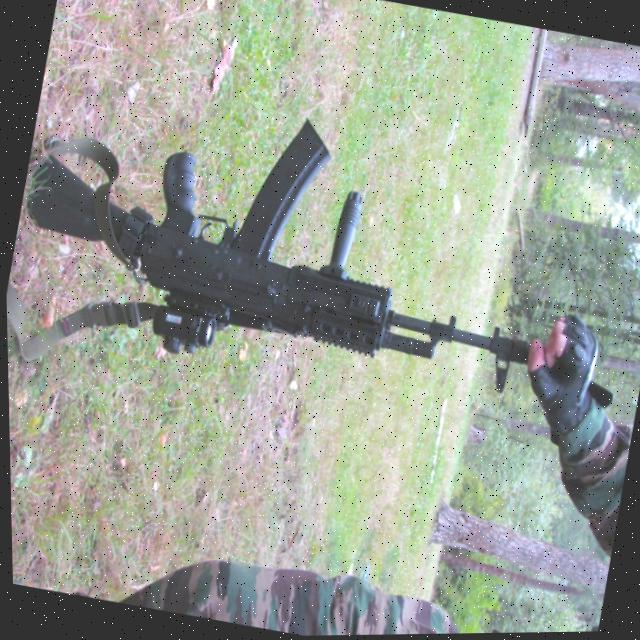firearm: (5, 72, 572, 423)
